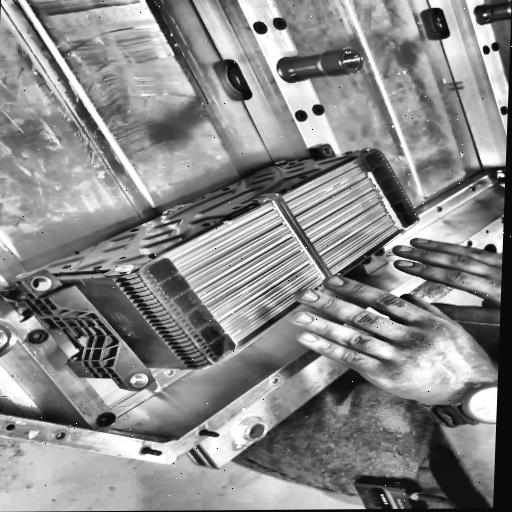battery_module: (0, 142, 421, 385)
